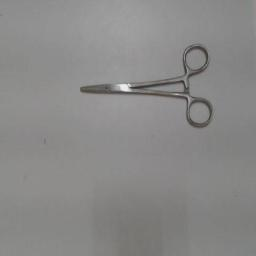Mayo Needle Holder: (72, 42, 216, 136)
